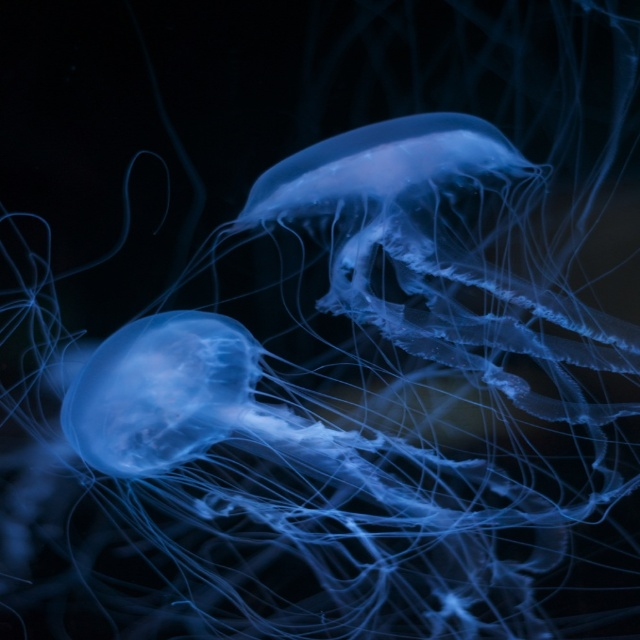Jellyfish: (0, 309, 639, 640), (114, 105, 639, 492), (188, 108, 639, 498)
